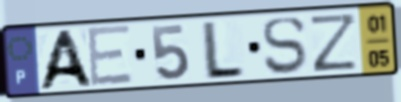5: (149, 22, 192, 83)
A: (34, 27, 97, 92)
E: (84, 23, 136, 90)
L: (201, 18, 247, 82)
S: (260, 14, 308, 77)
Z: (307, 11, 360, 74)
